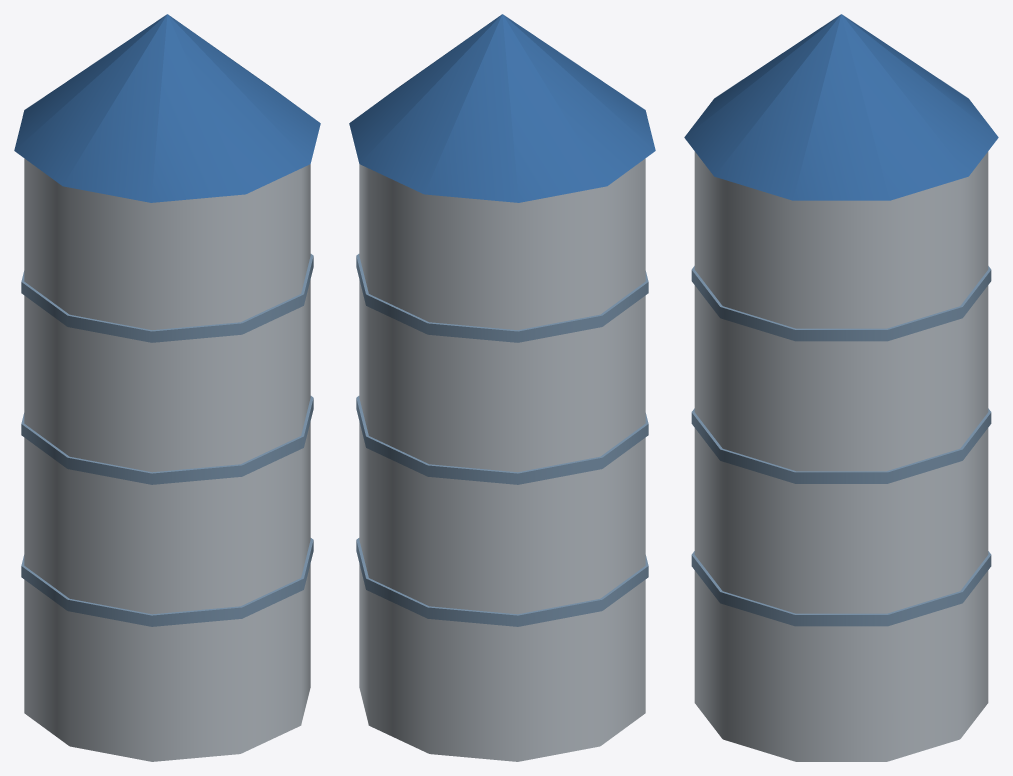
File: silo.glb
The picture shows the model from 3 angles, left to right: view 1: azimuth 30°, elevation 25°; view 2: azimuth 150°, elevation 25°; view 3: azimuth 270°, elevation 25°; orthographic projection.
Bounding box in the file's own units: 2.85 × 7.25 × 3.
